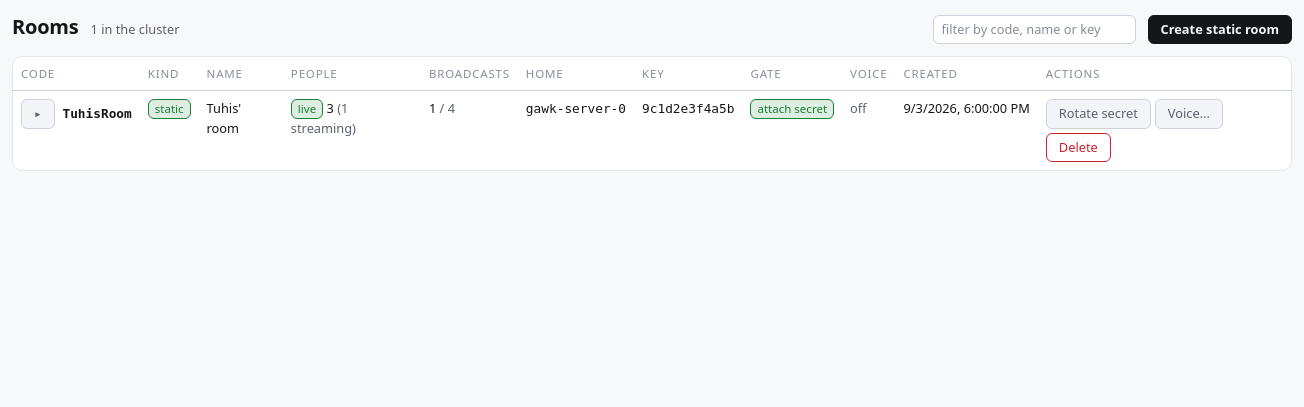
who is in a room (R49, docs/50 D10) › expands a row into the roster and the attachments from GET /rooms/{name}
Expected: the text "TuhisRoom" is shown, x1=62 y1=106 x2=132 y2=122
Click the button named "Show who is in TuhisRoom" at (38, 114), box x1=21 y1=100 x2=55 y2=129
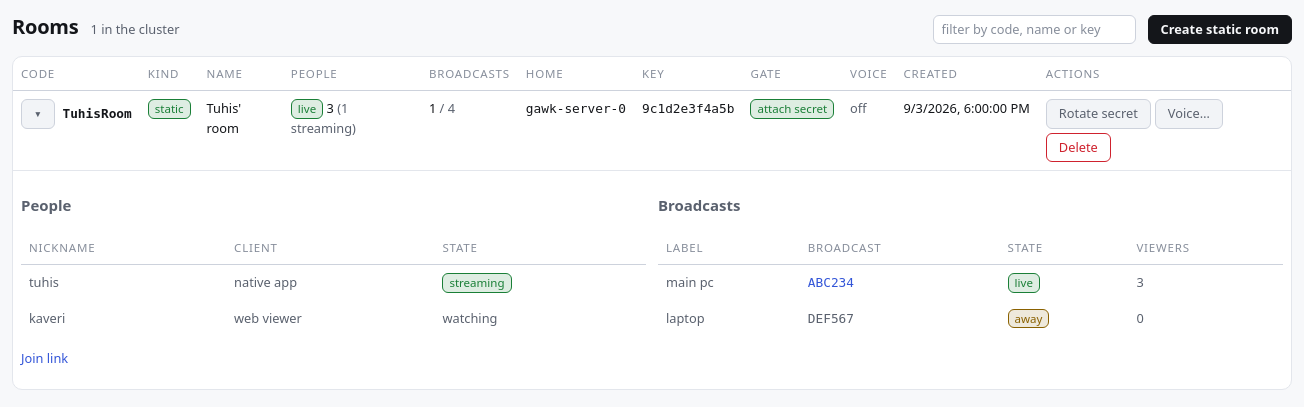
Expected: the text "kaveri" is shown, x1=21 y1=301 x2=226 y2=336
Expected: the text "tuhis" is shown, x1=21 y1=265 x2=226 y2=301
Expected: the text "native app" is shown, x1=226 y1=265 x2=434 y2=301
Click the button named "Hide who is in TuhisRoom" at (38, 114), box x1=21 y1=100 x2=55 y2=129
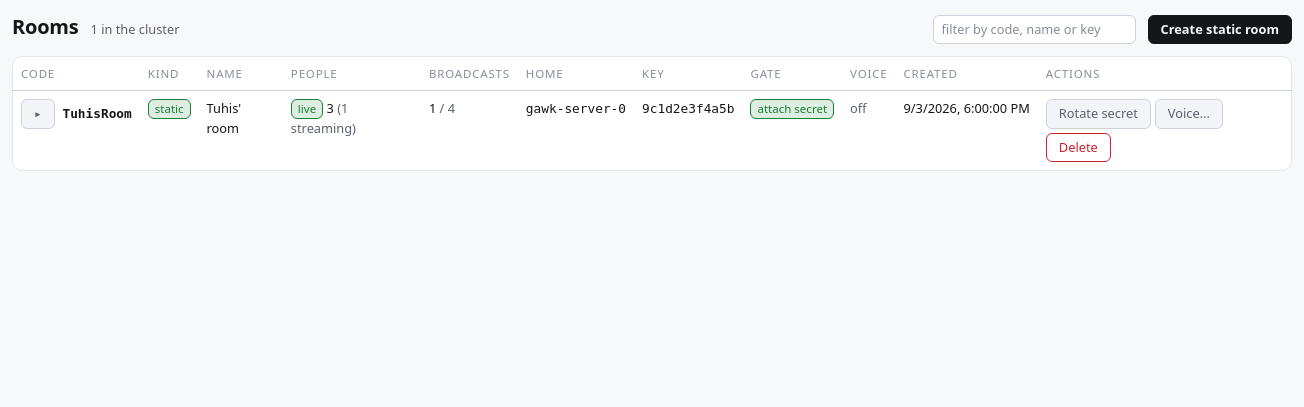
Expected: the text "kaveri" is gone
